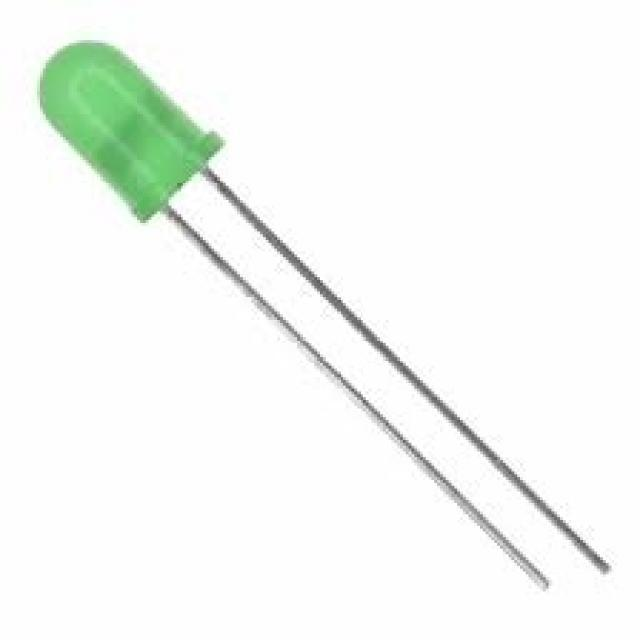Led: (40, 42, 531, 574)
